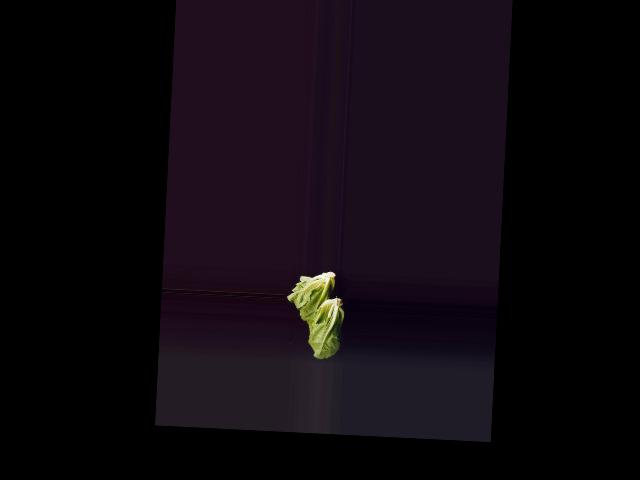lettuce: (286, 269, 342, 333)
